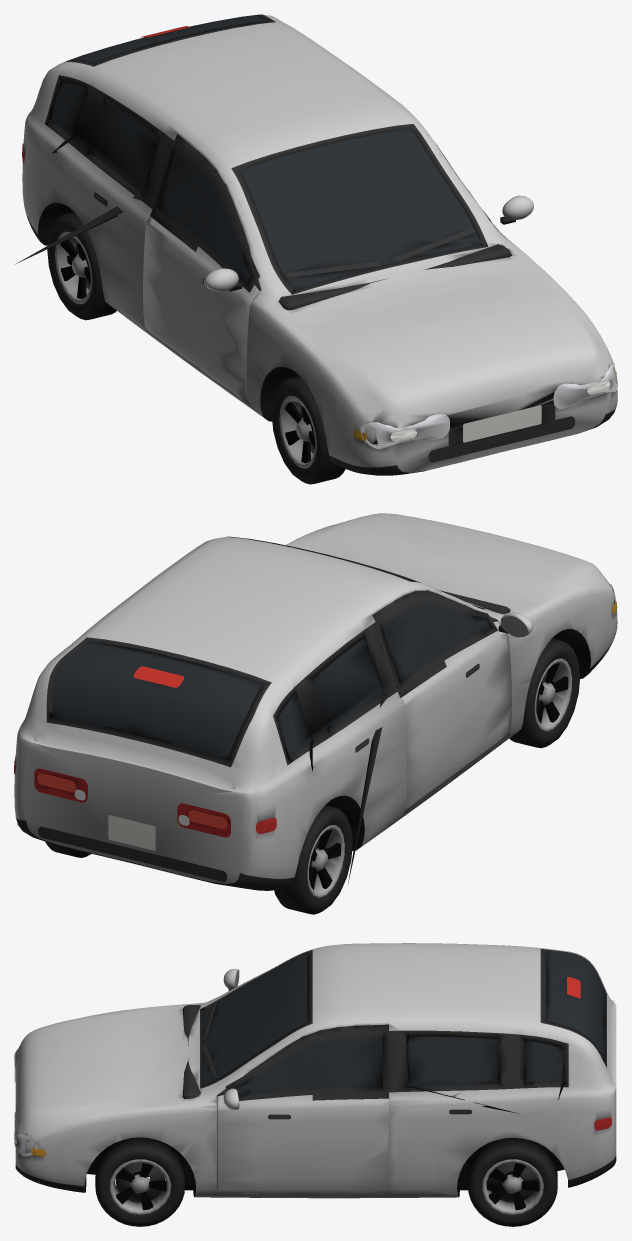
File: car-hatch-v2.glb
3 renders of one model, top to bottom at view 1: azimuth 30°, elevation 25°; view 2: azimuth 150°, elevation 25°; view 3: azimuth 270°, elevation 25°, orthographic. The views are drawn at different scales.
Visible parts, largest first — view 1: body, door_R, wheel_FR, wheel_RR, door_L; view 2: body, door_R, wheel_RR, wheel_FR; view 3: body, door_L, wheel_FL, wheel_RL.
Boxes of the visible parts, x1,y1,x2,y2 form: body: (14, 14, 617, 475); door_R: (143, 134, 261, 404); wheel_FR: (271, 376, 347, 484); wheel_RR: (47, 212, 116, 320); door_L: (436, 144, 533, 236); body: (14, 513, 617, 890); door_R: (372, 590, 532, 813); wheel_RR: (274, 805, 352, 914); wheel_FR: (509, 638, 580, 748); body: (14, 943, 616, 1198); door_L: (217, 1024, 388, 1193); wheel_FL: (95, 1137, 185, 1226); wheel_RL: (468, 1138, 557, 1226).
Bounding box in the file's own units: 2.19 × 1.53 × 4.17.
